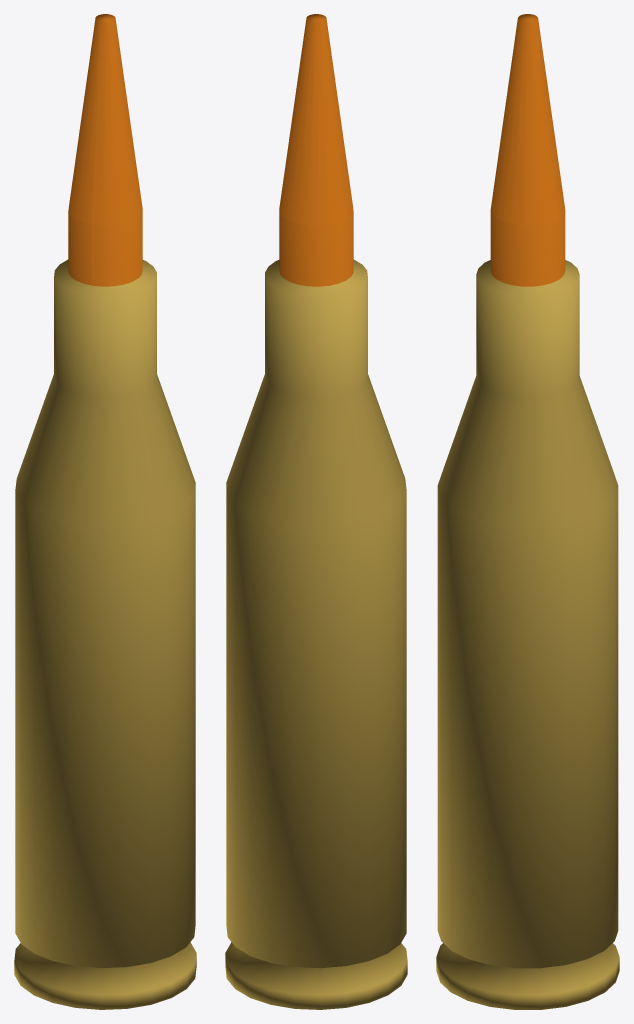
File: round_739.be884a9688.glb
The picture shows the model from 3 angles, left to right: view 1: azimuth 30°, elevation 25°; view 2: azimuth 150°, elevation 25°; view 3: azimuth 270°, elevation 25°; orthographic projection.
Visible parts, largest first — view 1: round_739; view 2: round_739; view 3: round_739.
Part boxes in pixels (bbox=[...]): round_739: bbox=[14, 14, 196, 1009]; round_739: bbox=[225, 14, 407, 1009]; round_739: bbox=[436, 14, 619, 1009].
Size of the model in its own units: 0.00964 by 0.056 by 0.00974.
Materials: 1 (1 with a texture image).
